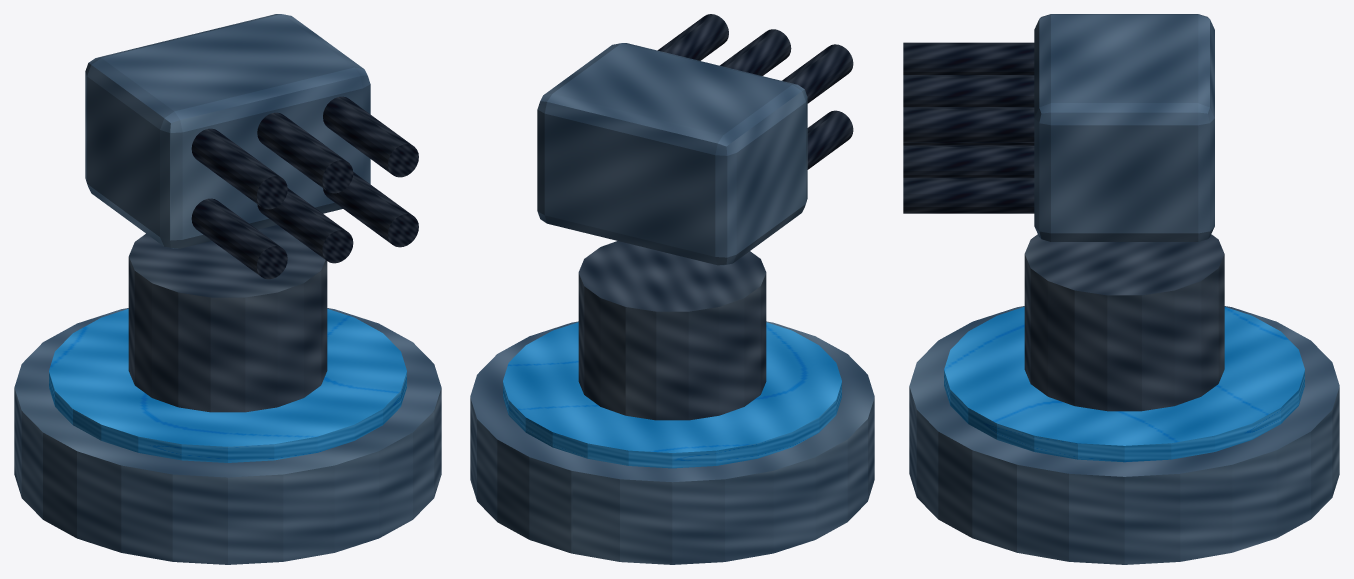
The model's file is 04_HailstormBattery.glb.
3 renders of one model, left to right at view 1: azimuth 30°, elevation 25°; view 2: azimuth 150°, elevation 25°; view 3: azimuth 270°, elevation 25°, orthographic. The views are drawn at different scales.
Parts seen in each view (by area): view 1: Stand_Base.003, Head_Battery, Stand_Pedestal.003, Stand_IceRing.003, Head_HailTube.001, Head_HailTube.003, Head_HailTube.005, Head_HailTube, Head_HailTube.002, Head_HailTube.004; view 2: Head_Battery, Stand_Base.003, Stand_Pedestal.003, Stand_IceRing.003, Head_HailTube.001, Head_HailTube.005, Head_HailTube.003, Head_HailTube; view 3: Stand_Base.003, Head_Battery, Stand_Pedestal.003, Stand_IceRing.003, Head_HailTube.004, Head_HailTube.005, Head_HailTube.002, Head_HailTube.001, Head_HailTube.003.
Part boxes in pixels (left/top/right/bottom): Stand_Base.003: left=14, top=308, right=441, bottom=564; Head_Battery: left=85, top=14, right=370, bottom=248; Stand_Pedestal.003: left=128, top=225, right=327, bottom=412; Stand_IceRing.003: left=49, top=309, right=406, bottom=462; Head_HailTube.001: left=191, top=128, right=287, bottom=209; Head_HailTube.003: left=257, top=112, right=353, bottom=193; Head_HailTube.005: left=323, top=96, right=418, bottom=177; Head_HailTube: left=191, top=198, right=287, bottom=279; Head_HailTube.002: left=257, top=188, right=353, bottom=263; Head_HailTube.004: left=323, top=172, right=418, bottom=247; Head_Battery: left=537, top=43, right=807, bottom=265; Stand_Base.003: left=470, top=321, right=874, bottom=564; Stand_Pedestal.003: left=578, top=241, right=766, bottom=420; Stand_IceRing.003: left=503, top=322, right=841, bottom=468; Head_HailTube.001: left=782, top=44, right=853, bottom=103; Head_HailTube.005: left=657, top=14, right=728, bottom=60; Head_HailTube.003: left=720, top=29, right=791, bottom=75; Head_HailTube: left=807, top=110, right=853, bottom=169; Stand_Base.003: left=909, top=306, right=1339, bottom=564; Head_Battery: left=1034, top=14, right=1214, bottom=241; Stand_Pedestal.003: left=1024, top=234, right=1224, bottom=411; Stand_IceRing.003: left=944, top=307, right=1304, bottom=462; Head_HailTube.004: left=903, top=177, right=1034, bottom=213; Head_HailTube.005: left=903, top=107, right=1034, bottom=142; Head_HailTube.002: left=903, top=145, right=1034, bottom=177; Head_HailTube.001: left=903, top=42, right=1034, bottom=74; Head_HailTube.003: left=903, top=75, right=1034, bottom=106.
Size of the model in its own units: 3.1 by 3.3 by 3.15.
Materials: 4 (4 with a texture image).
